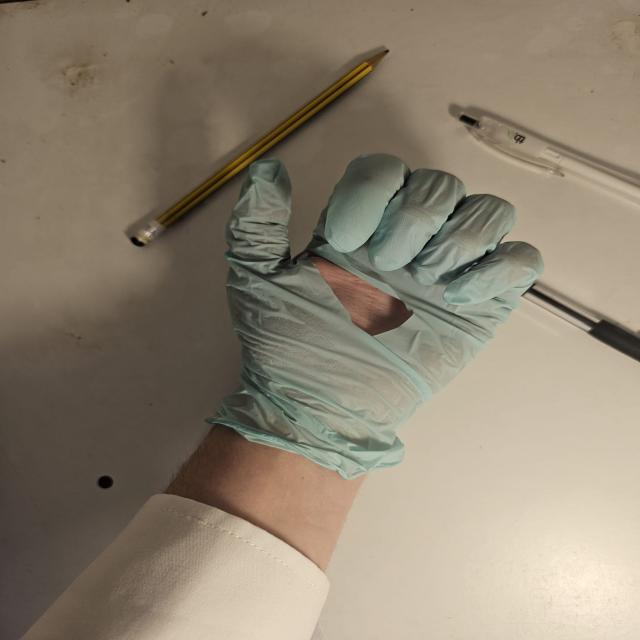gloves_damaged: (210, 148, 542, 473)
